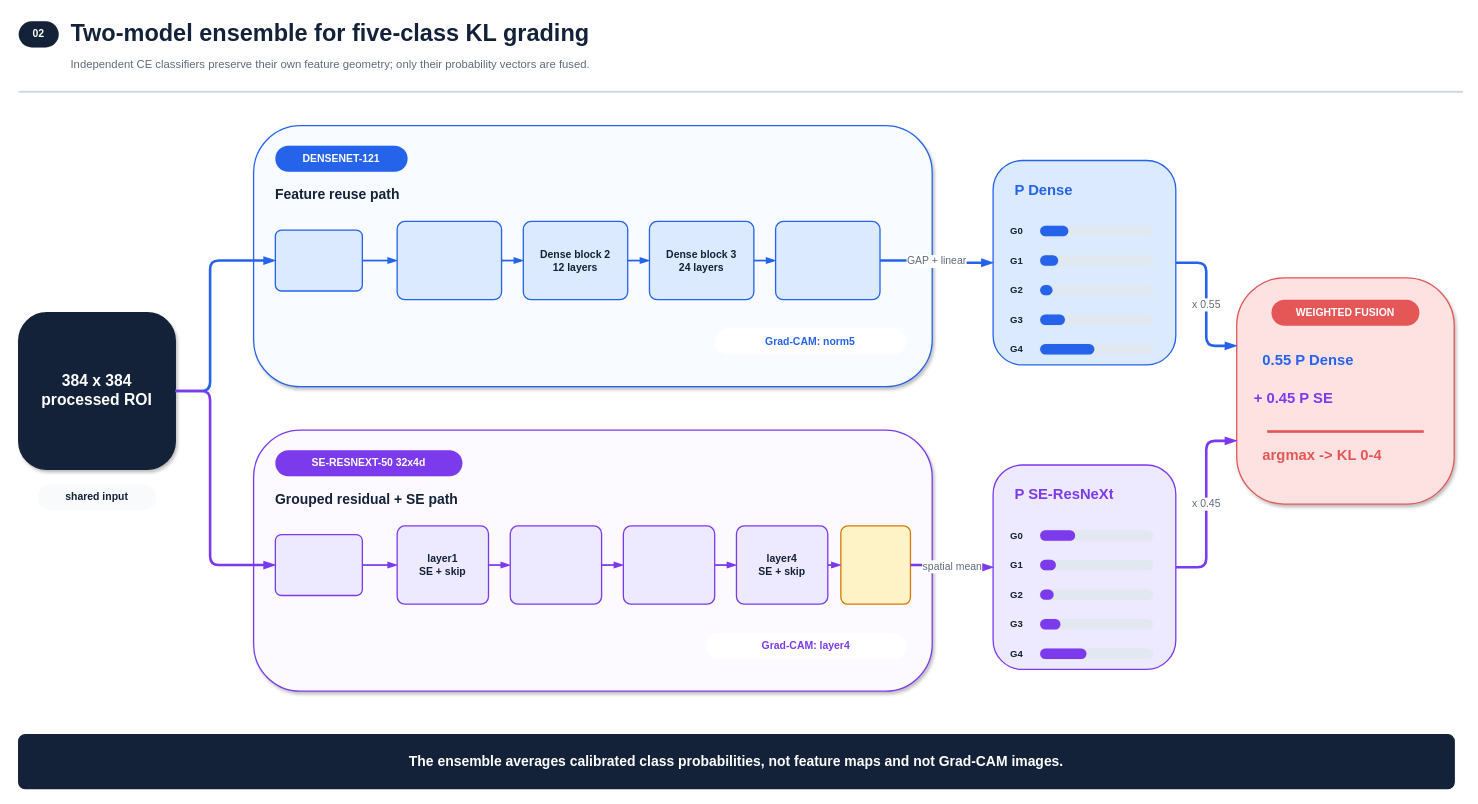
The diagram is 1478 pixels wide and 804 high, and some of its shapes have lost their labels. The shapes that lost their labels are listed below. From the top down, each one's centre as x and y in pixels, then its label:
point (318, 260): 7 x 7 conv + max pool
point (449, 260): Dense block 1 6 layers
point (827, 260): Dense block 4 16 layers
point (318, 565): stem
point (555, 564): layer2 SE + skip
point (668, 564): layer3 SE + skip
point (875, 564): 1 x 1 conv 2048 -> 5
